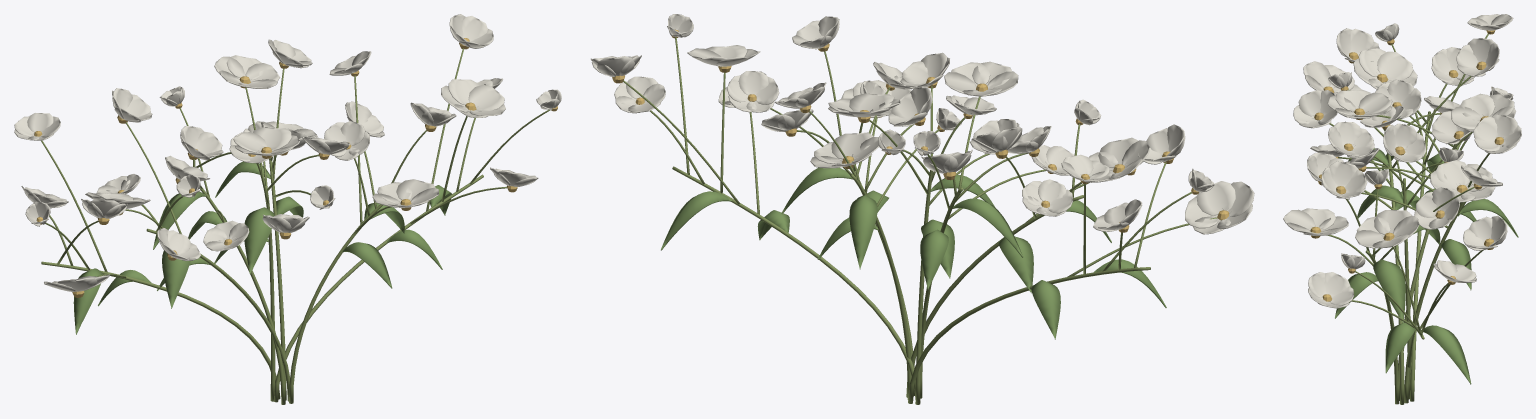
The model's file is flowers.glb.
The picture shows the model from 3 angles, left to right: view 1: azimuth 30°, elevation 25°; view 2: azimuth 150°, elevation 25°; view 3: azimuth 270°, elevation 25°; orthographic projection. The views are drawn at different scales.
Parts seen in each view (by area): view 1: asset-foundation-v1/flowers; view 2: asset-foundation-v1/flowers; view 3: asset-foundation-v1/flowers.
Boxes of the visible parts, <box> form: asset-foundation-v1/flowers: <box>14,14,561,404</box>; asset-foundation-v1/flowers: <box>590,14,1254,404</box>; asset-foundation-v1/flowers: <box>1283,14,1521,404</box>.
Bounding box in the file's own units: 0.4706 × 0.2683 × 0.191.
